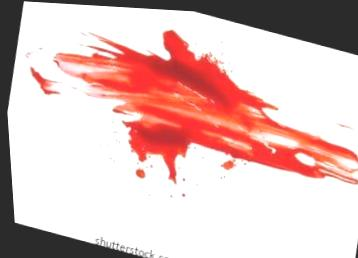Fire: (52, 28, 358, 181), (29, 66, 58, 94), (219, 156, 234, 168), (133, 167, 144, 178)
